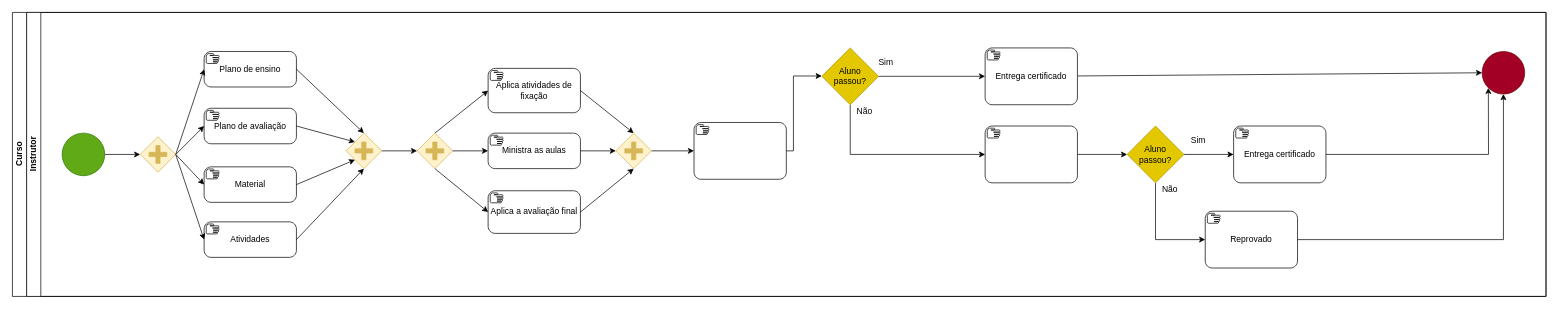
This 1558x309 diagram has some shape labels left out. Here are the shapes that lost their labels. From the top down, the centre of each, then its label:
At pixel 739 150: "Apresentar os resultados".
At pixel 1030 154: "Aplica recuperação".
